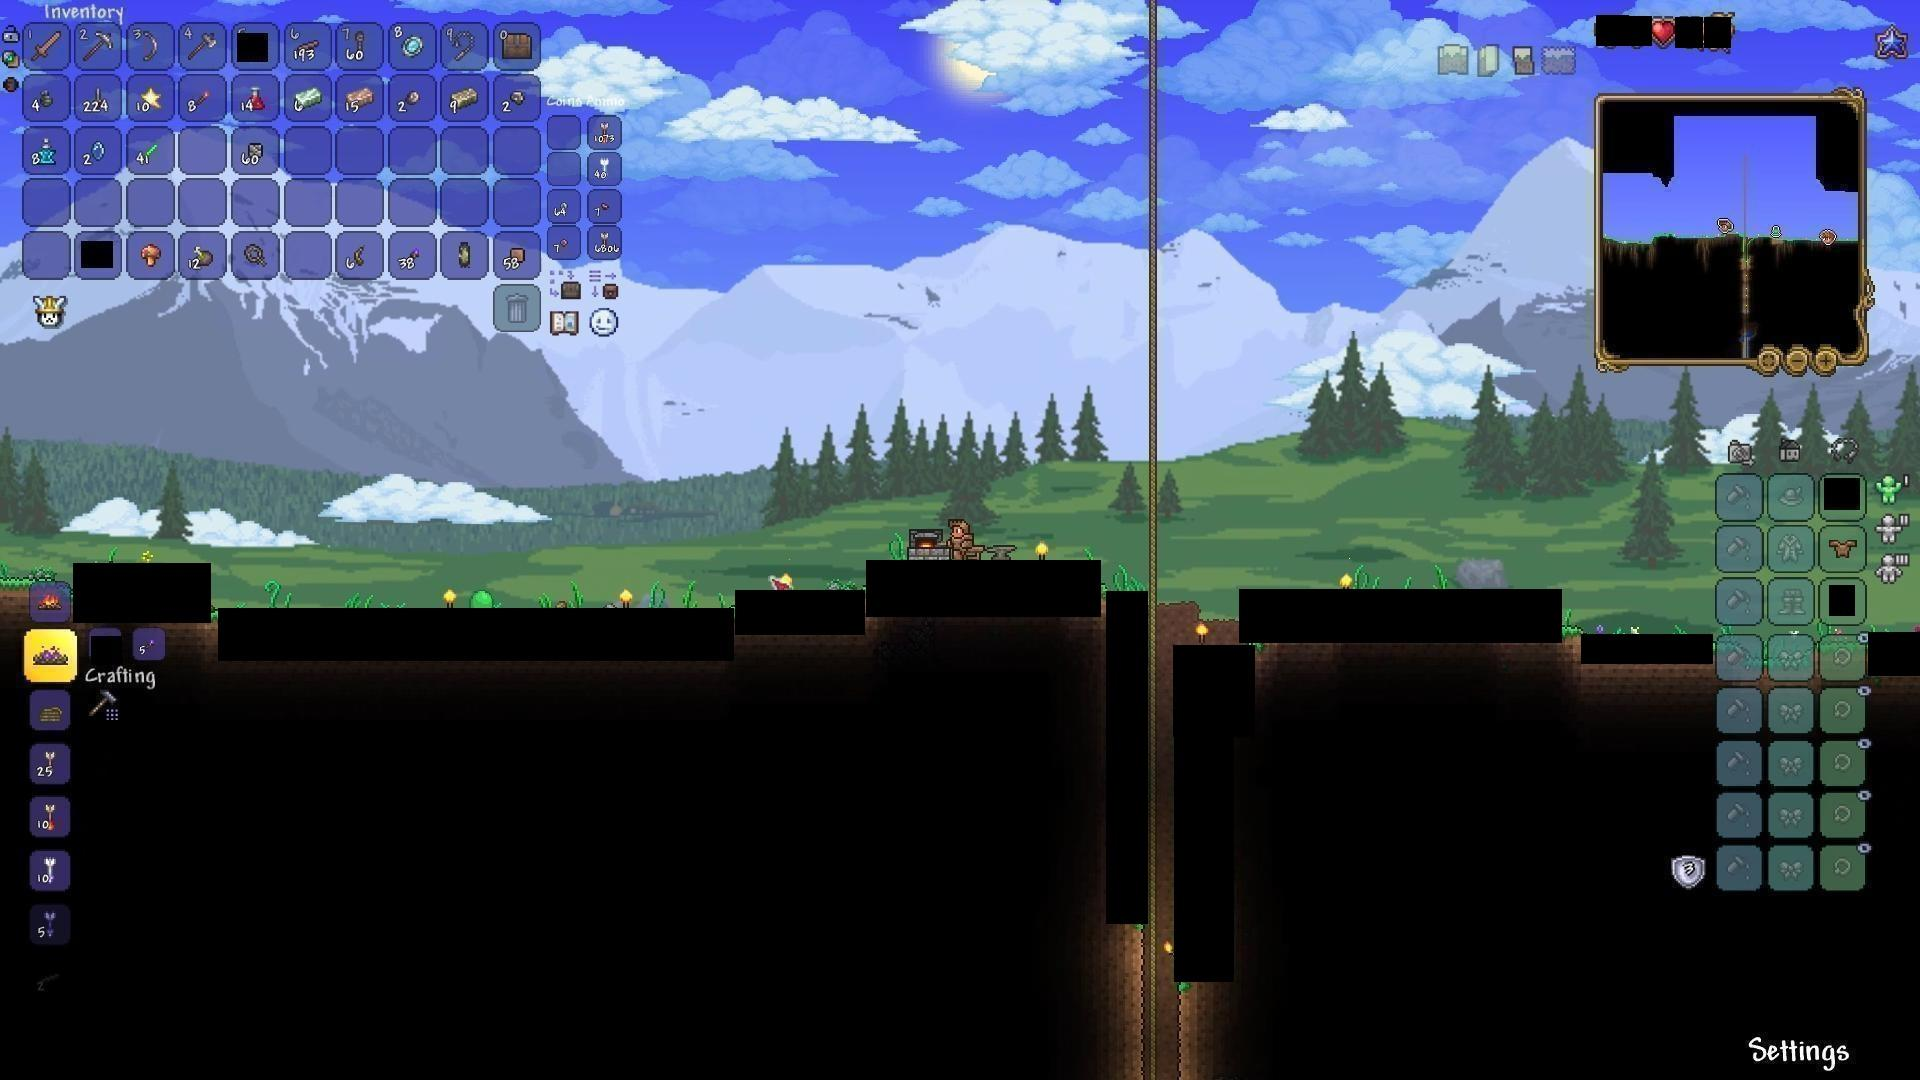breastplate: (1826, 535, 1858, 560)
dirt: (0, 571, 26, 607)
heart: (1648, 17, 1676, 46)
slime: (468, 585, 498, 615)
